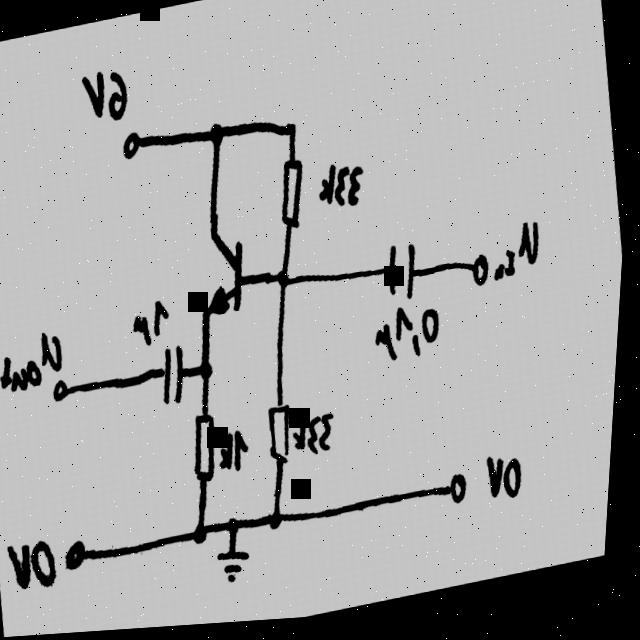capacitor: (381, 242, 431, 312), (156, 344, 197, 416)
ground: (218, 547, 260, 592)
junction: (205, 119, 233, 156), (195, 522, 219, 554), (277, 269, 299, 299), (200, 360, 222, 387), (272, 511, 293, 538), (284, 122, 302, 147), (232, 519, 249, 542)
resistor: (275, 157, 315, 238), (189, 408, 223, 496), (267, 400, 298, 475)
terminal: (68, 537, 101, 578), (469, 255, 497, 300), (450, 474, 480, 515), (119, 127, 148, 169), (55, 377, 78, 405)
text: (373, 304, 449, 375), (0, 327, 70, 397), (79, 63, 135, 135), (491, 223, 548, 293), (12, 536, 67, 598), (314, 161, 370, 221), (486, 456, 534, 517), (298, 411, 344, 466), (132, 298, 177, 352), (225, 428, 258, 480)
transistor: (190, 224, 257, 332)
